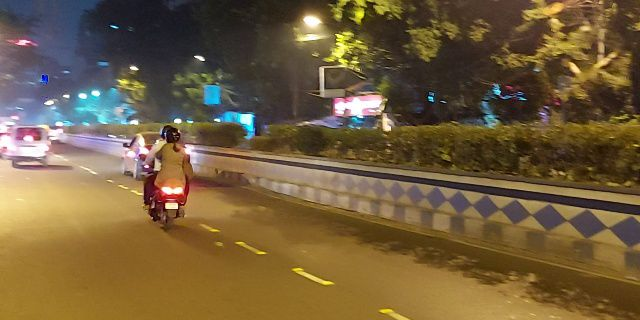Motorbike: (141, 121, 187, 230)
Van: (10, 126, 55, 167)
